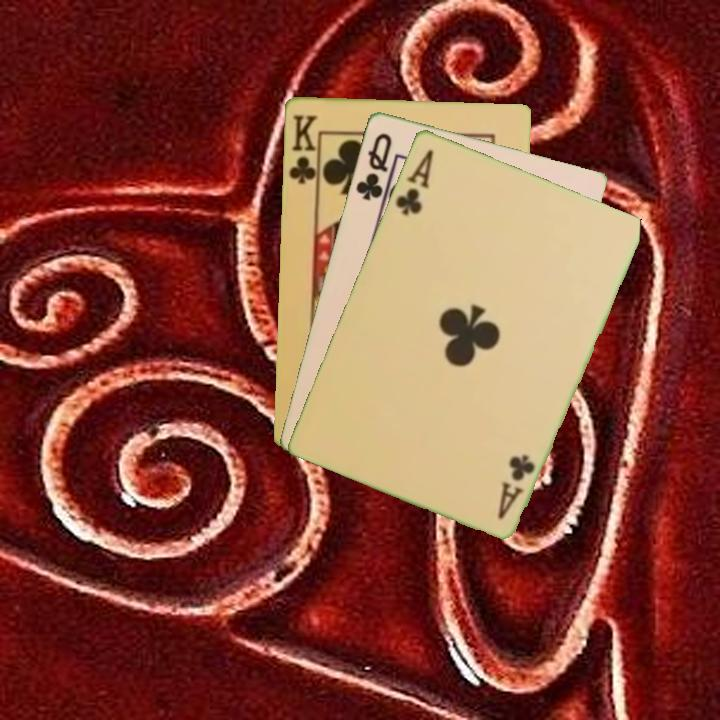Ac: (391, 145, 436, 217), (493, 450, 538, 522)
Kc: (285, 111, 321, 190)
Qc: (352, 128, 395, 204)
